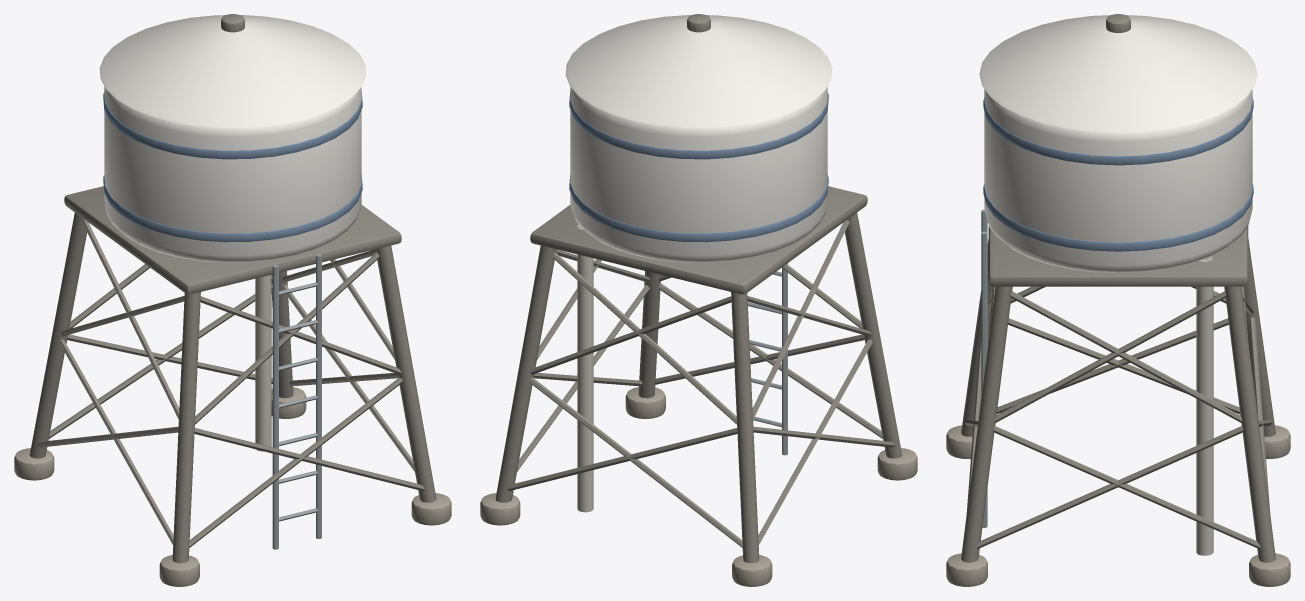
Rendered from water_tower.glb.
3 renders of one model, left to right at view 1: azimuth 30°, elevation 25°; view 2: azimuth 150°, elevation 25°; view 3: azimuth 270°, elevation 25°, orthographic. The views are drawn at different scales.
Parts seen in each view (by area): view 1: white, steel_dark, blue_stripe, galv, stone, steel; view 2: white, steel_dark, blue_stripe, stone, steel, galv; view 3: white, steel_dark, blue_stripe, steel, stone, galv.
Boxes of the visible parts, <box> form: white: <box>99,15,366,262</box>; steel_dark: <box>29,14,436,563</box>; blue_stripe: <box>103,92,362,242</box>; galv: <box>272,254,321,549</box>; stone: <box>14,387,451,586</box>; steel: <box>255,274,271,451</box>; white: <box>565,15,832,262</box>; steel_dark: <box>495,14,902,563</box>; blue_stripe: <box>569,92,828,242</box>; stone: <box>480,387,917,586</box>; steel: <box>577,224,593,512</box>; galv: <box>747,263,787,455</box>; white: <box>979,15,1257,272</box>; steel_dark: <box>961,14,1275,562</box>; blue_stripe: <box>983,98,1253,251</box>; steel: <box>1196,256,1213,555</box>; stone: <box>946,425,1290,586</box>; galv: <box>981,209,987,527</box>.
Size of the model in its own units: 1.59 by 2.55 by 1.59.
